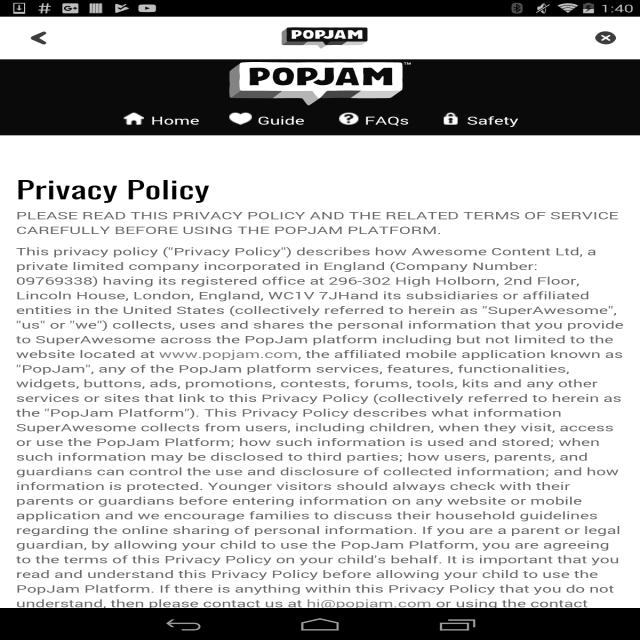ImageButton: (18, 26, 66, 48), (590, 27, 629, 51)
ImageView: (228, 56, 410, 99), (271, 27, 376, 48), (116, 105, 146, 129), (215, 110, 256, 127), (437, 108, 462, 128), (338, 109, 362, 127)
TextView: (14, 243, 611, 603), (10, 206, 619, 235), (16, 172, 224, 200)
